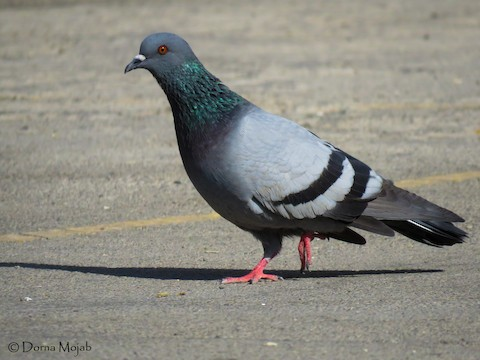pigeon: (122, 29, 470, 289)
